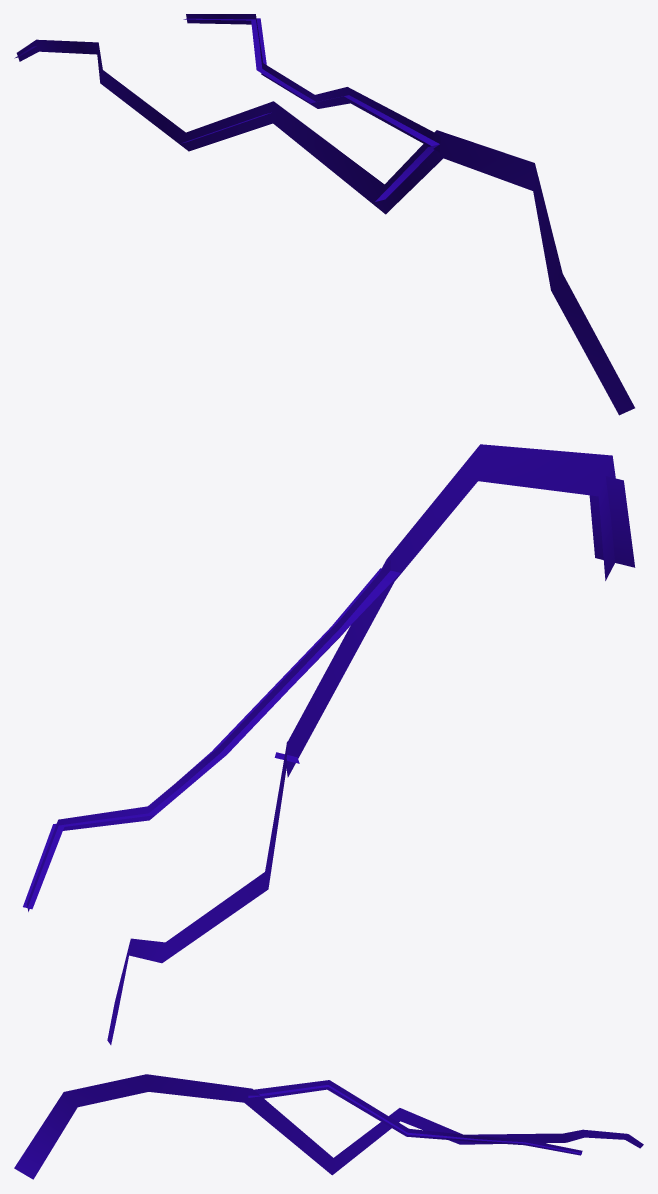
File: SM_EFF_Lightning_A_02.mo.fbx
The picture shows the model from 3 angles, top to bottom: view 1: azimuth 30°, elevation 25°; view 2: azimuth 150°, elevation 25°; view 3: azimuth 270°, elevation 25°; orthographic projection. The views are drawn at different scales.
Visible parts, largest first — view 1: SM_EFF_Lightning_A_02.mo; view 2: SM_EFF_Lightning_A_02.mo; view 3: SM_EFF_Lightning_A_02.mo.
Boxes of the visible parts, x1=… form: SM_EFF_Lightning_A_02.mo: x1=14, y1=14, x2=634, y2=415; SM_EFF_Lightning_A_02.mo: x1=23, y1=444, x2=635, y2=1044; SM_EFF_Lightning_A_02.mo: x1=14, y1=1074, x2=643, y2=1179.
Size of the model in its own units: 1.33 by 1.55 by 8.15.
